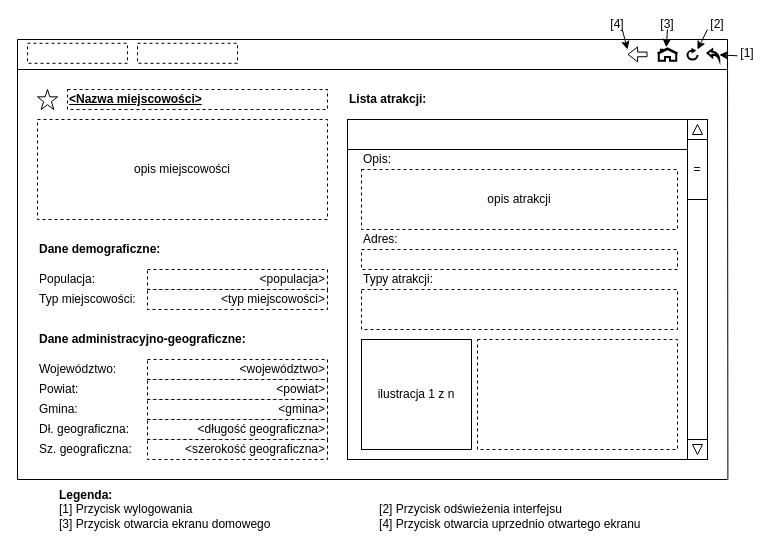
The diagram is 775 pixels wide and 556 high, and some of its shapes have lost their labels. The shapes that lost their labels are listed below. From the top down, each one's centre as x and y in pixels, then its label:
(x=77, y=52): login
(x=187, y=52): rola
(x=517, y=134): <nazwa atrakcji 1 z n>
(x=519, y=259): <adres atrakcji>
(x=519, y=309): wymienienie wszystkich typów atrakcji
(x=577, y=394): opis ilustracji 1 z n
